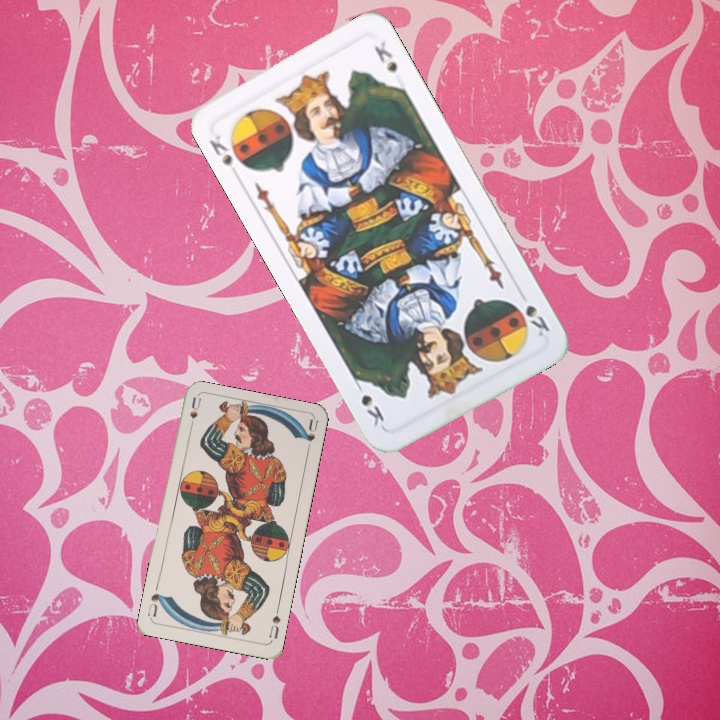SK: (514, 286, 553, 339), (205, 131, 235, 170)
SU: (185, 394, 203, 435), (265, 603, 283, 641)
